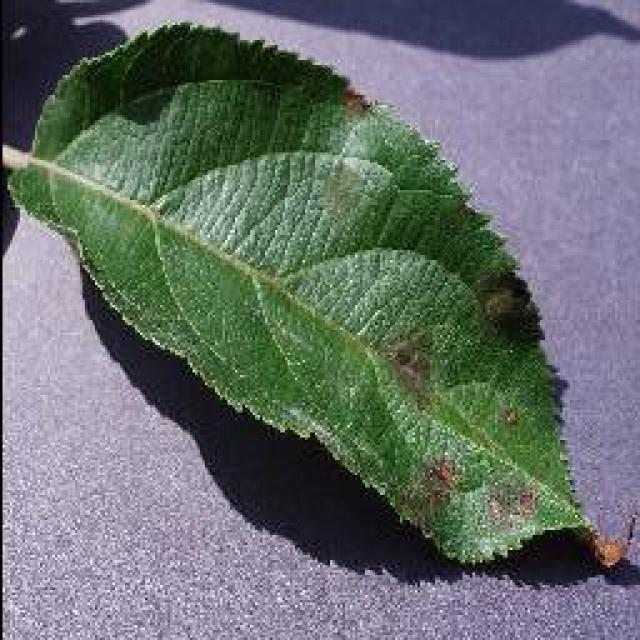apple scab disease: (3, 18, 625, 572)
